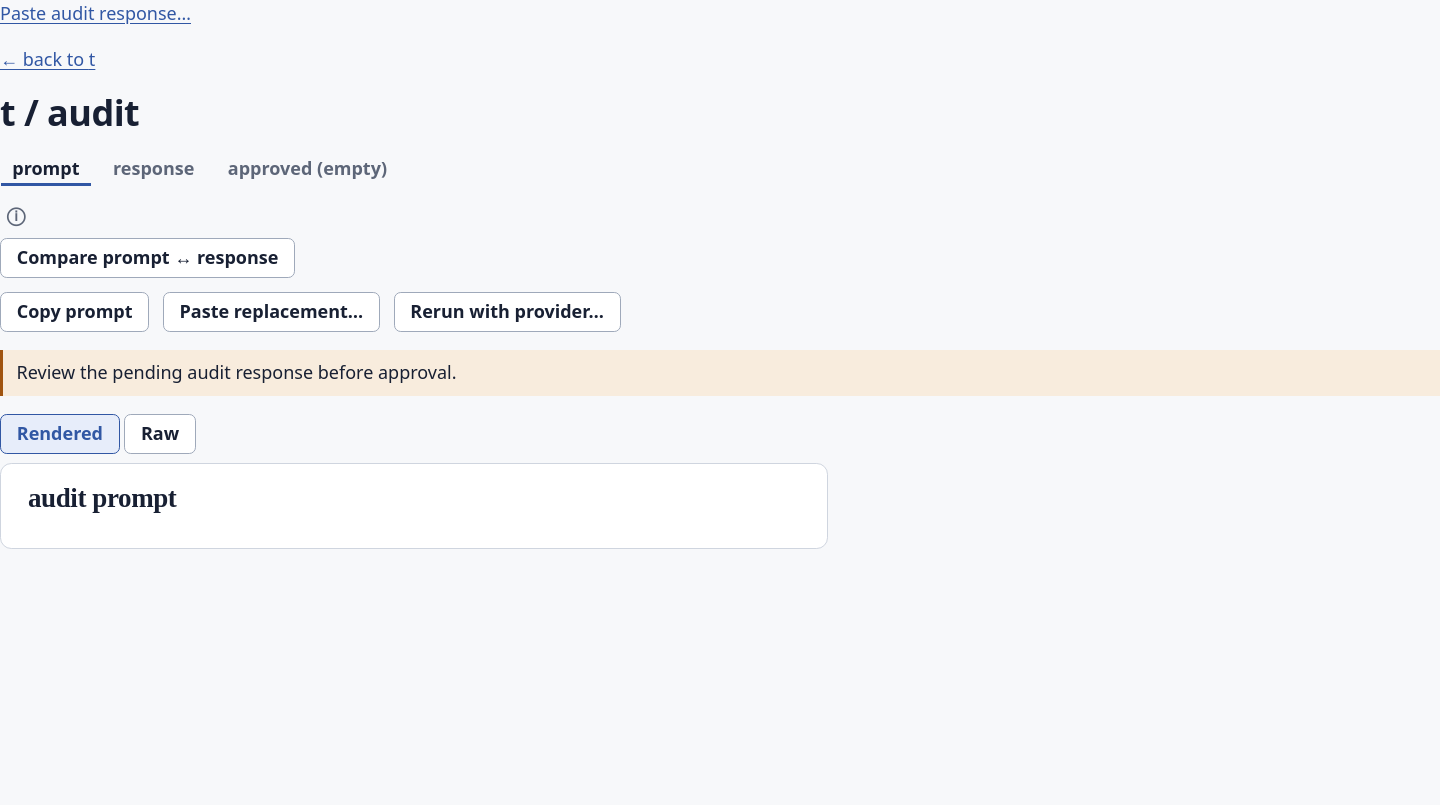
Scenario: StageViewerPage › opens the paste form on in-page navigation with ?paste=1
Expected: the tab "response" is shown, x1=101 y1=151 x2=206 y2=187
Expected: the field labelled "Response for audit" is not shown
Click the link "Paste audit response…". click: (96, 13)
box: x1=0 y1=1 x2=191 y2=25
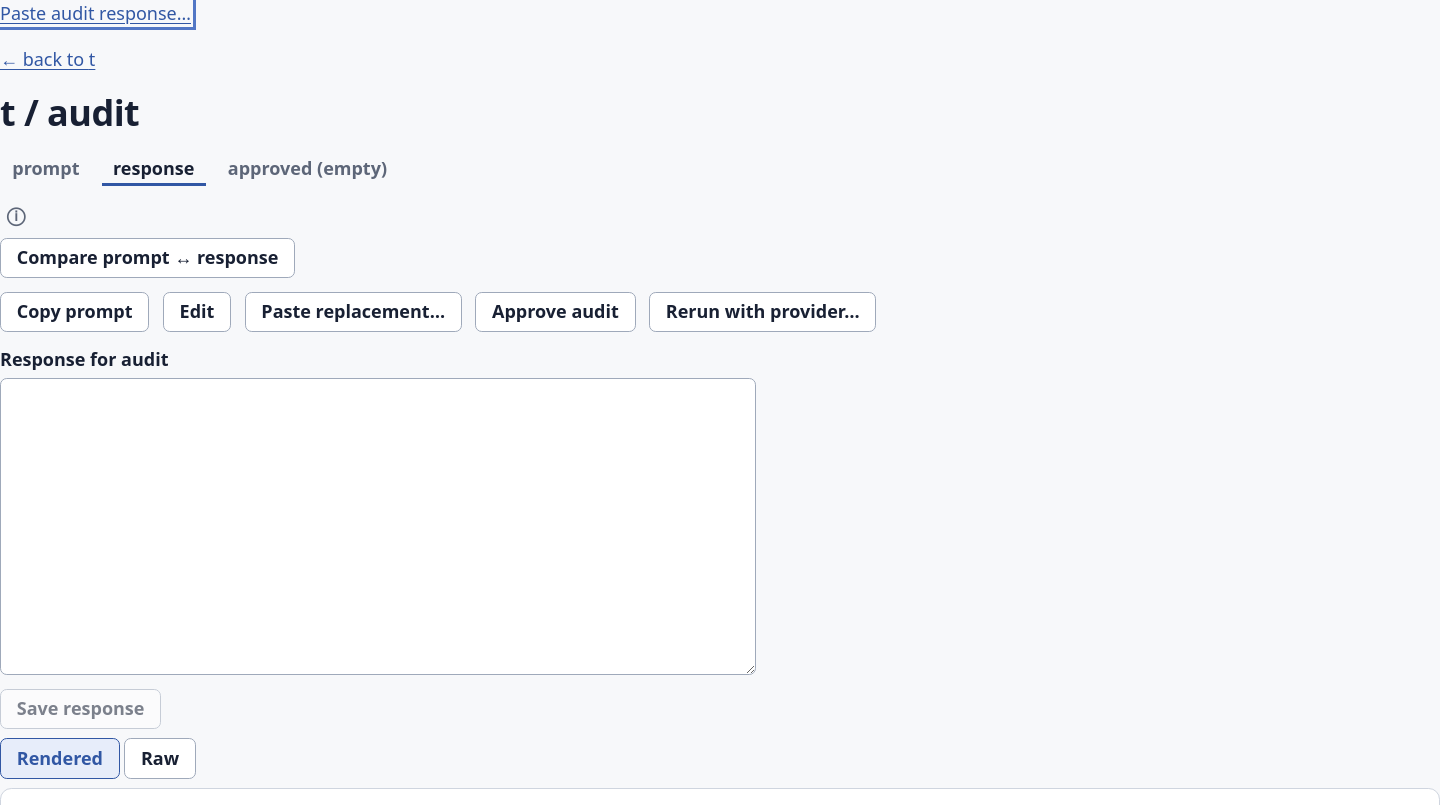
Now the text box labelled "Response for audit" is shown, box x1=0 y1=378 x2=756 y2=675
